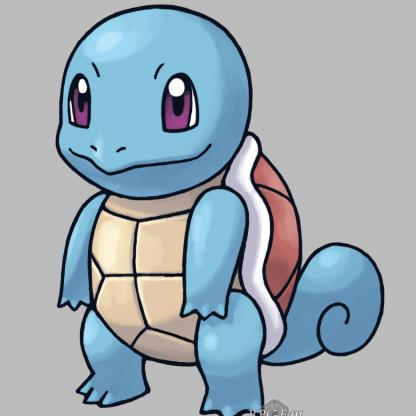Squirtle: (17, 1, 412, 416)
